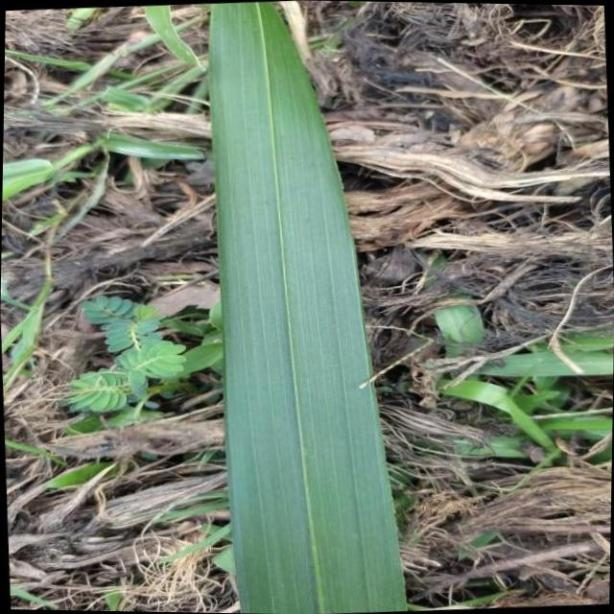Healthy: (206, 0, 408, 614)
